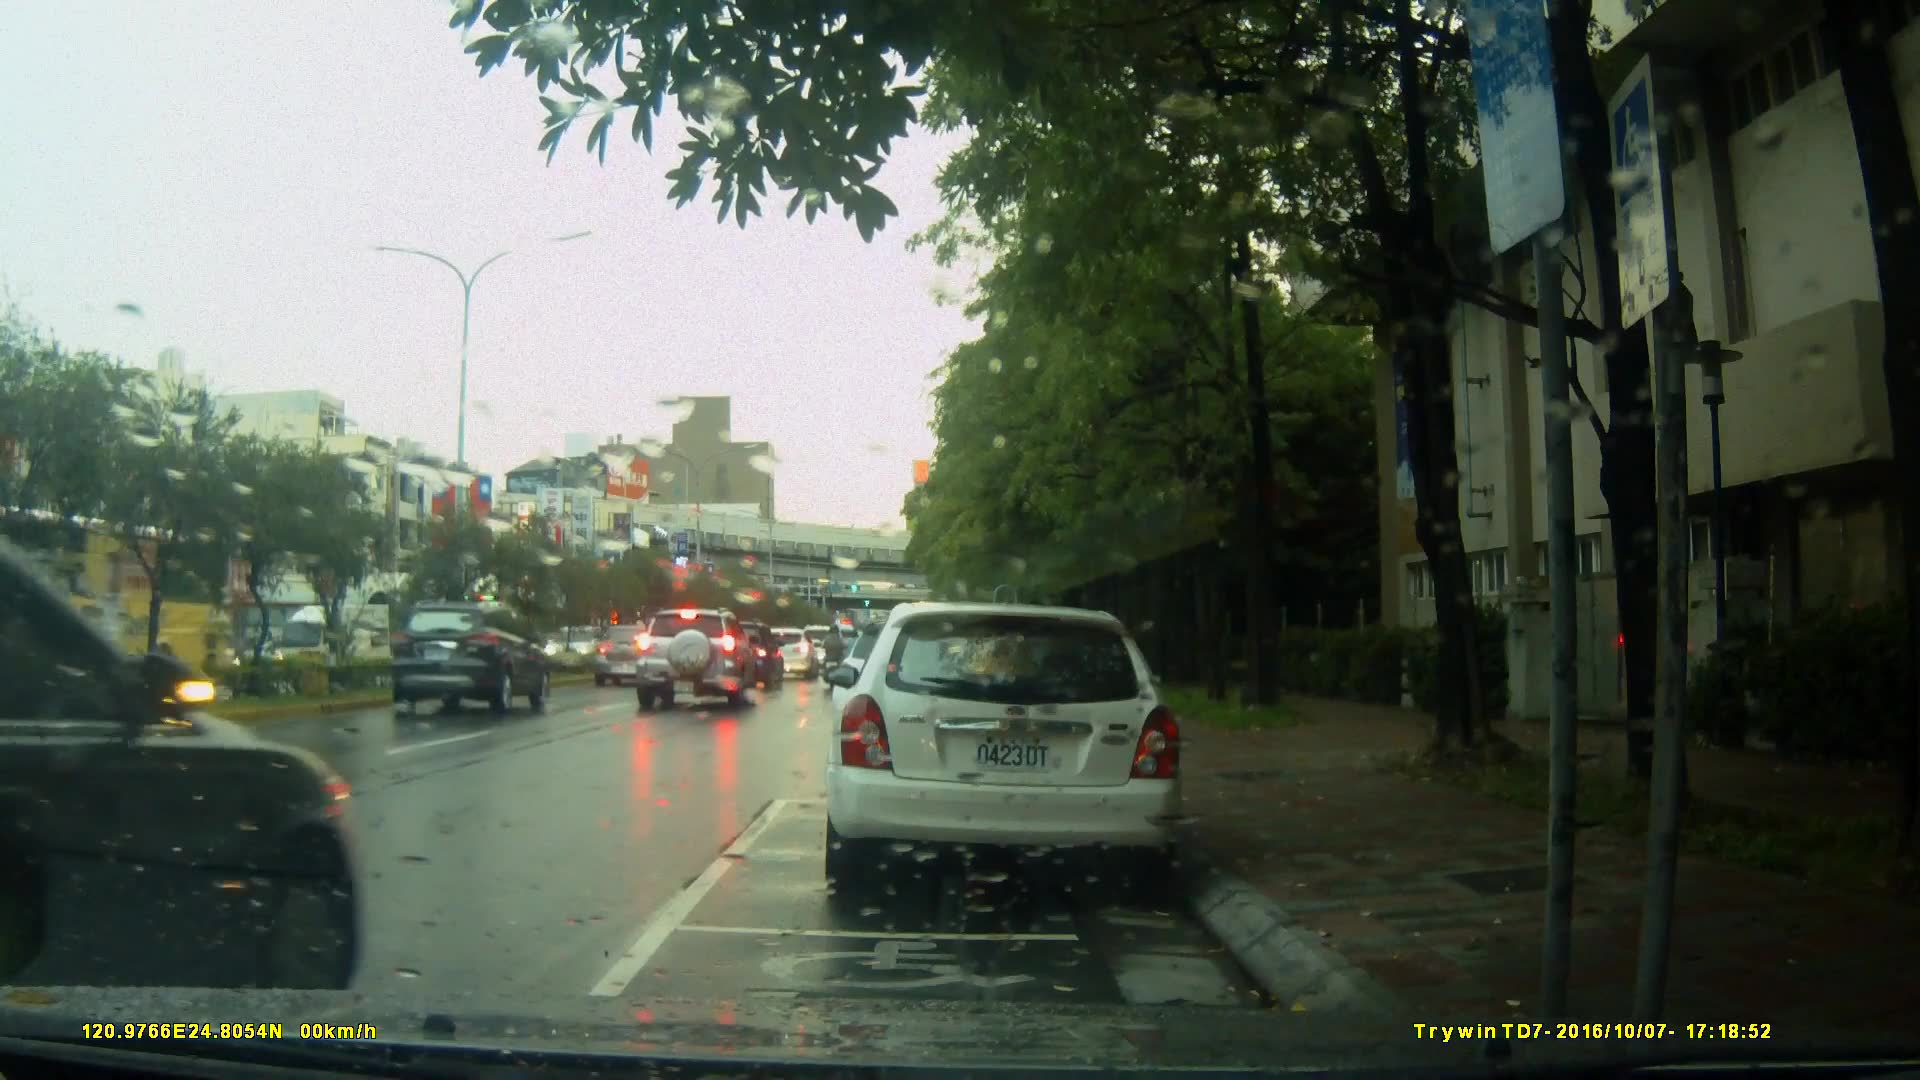rider: (817, 623, 853, 699)
vehicle: (1, 501, 361, 988), (820, 602, 1188, 898), (2, 528, 240, 686), (388, 597, 554, 715), (631, 607, 756, 715)
